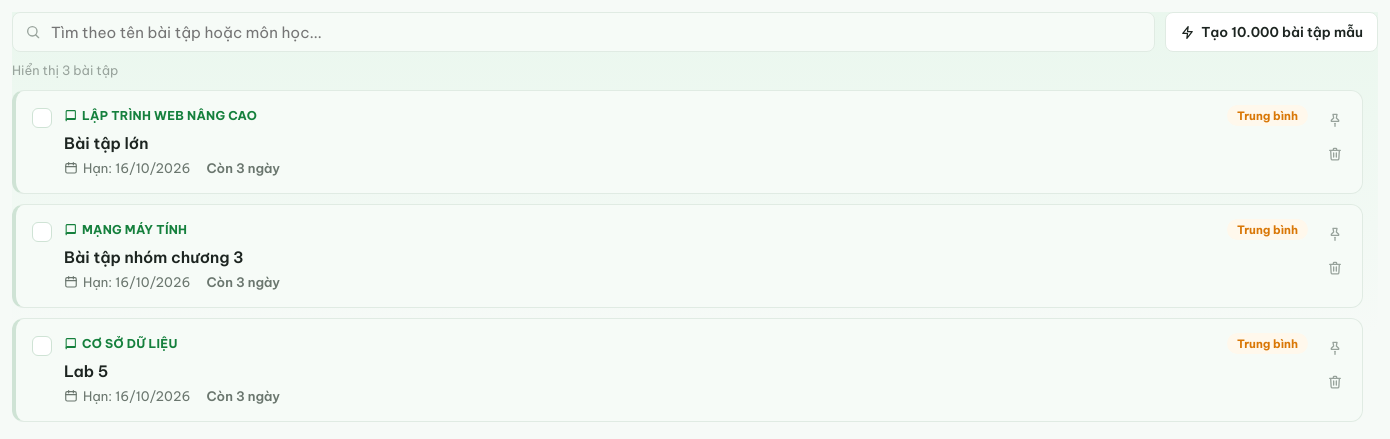
Scenario: AssignmentList › tìm kiếm có debounce › báo không tìm thấy khi không có kết quả
Type "xyz" into the search field at (596, 32), box [49,13,1142,51]
Wait 300 ms
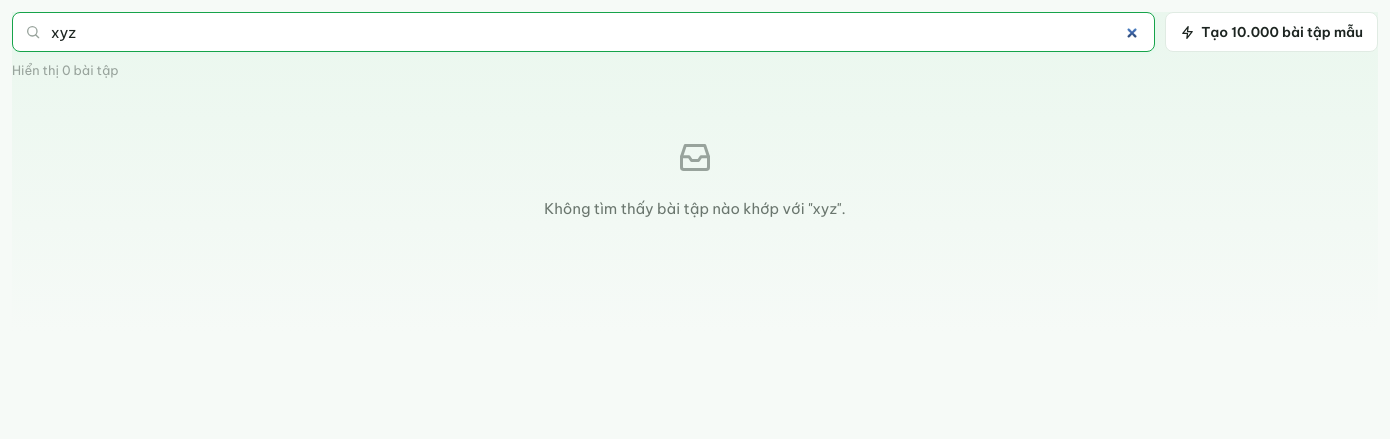
Expected: the text "Không tìm thấy bài tập nào khớp với \"xyz\"." is shown, [544,199,846,218]
